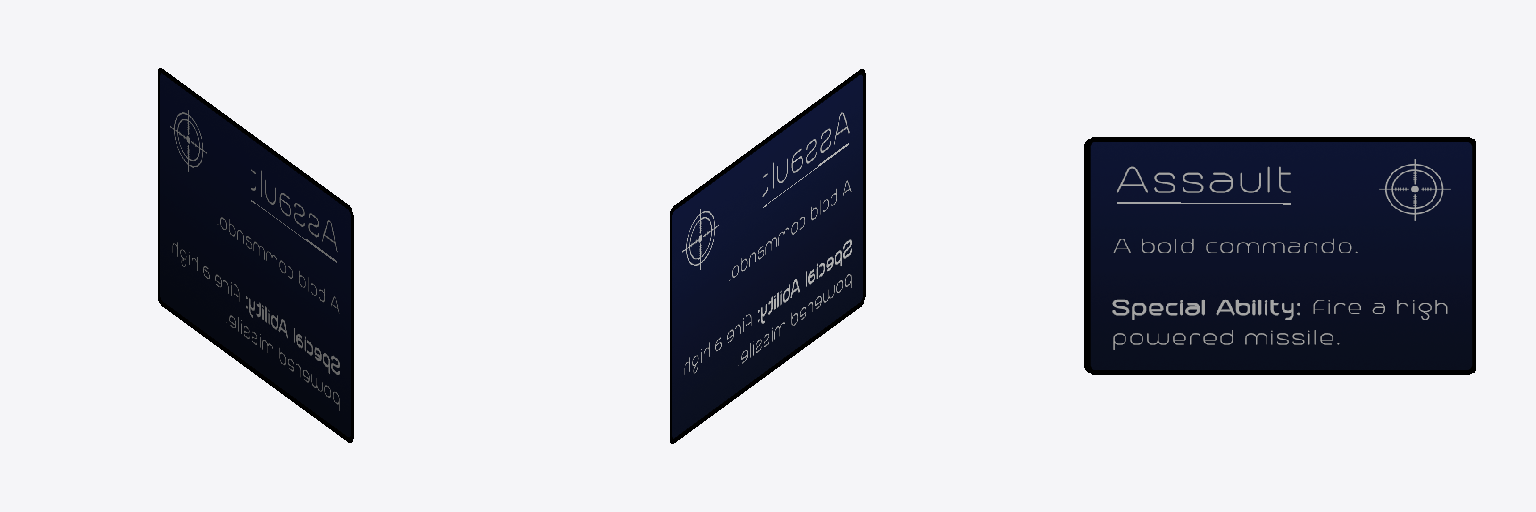
The picture shows the model from 3 angles: view 1: azimuth 30°, elevation 25°; view 2: azimuth 150°, elevation 25°; view 3: azimuth 270°, elevation 25°; orthographic projection.
Parts seen in each view (by area): view 1: Plane; view 2: Plane; view 3: Plane.
Boxes of the visible parts, box(x1,y1,x2,y2) form: Plane: box(158, 68, 353, 442); Plane: box(670, 69, 865, 443); Plane: box(1084, 137, 1475, 374).
Size of the model in its own units: 0 by 2 by 2.98.
Materials: 1 (1 with a texture image).